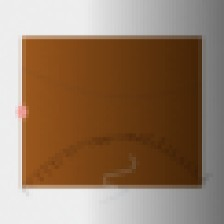foreign_body_visible: (131, 103, 172, 136)
